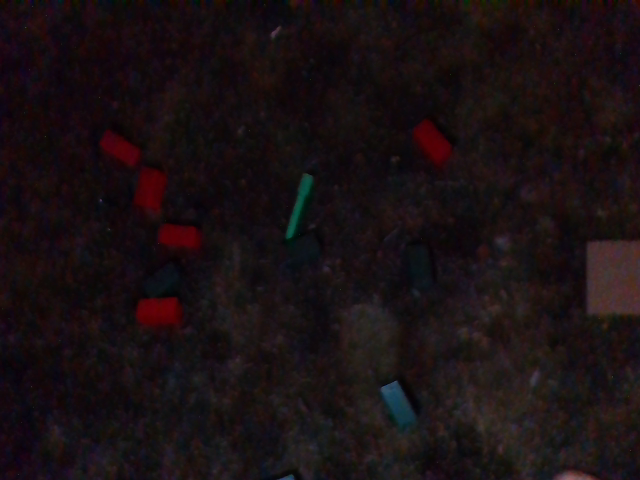Probe: (279, 166, 316, 241)
